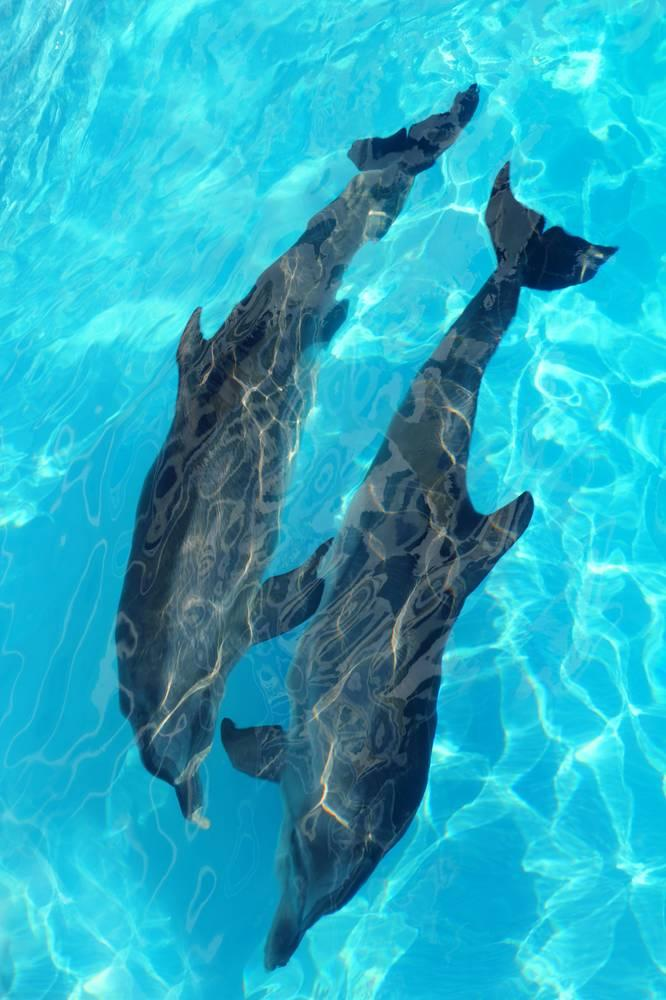fish: (215, 157, 636, 964), (114, 80, 483, 819)
